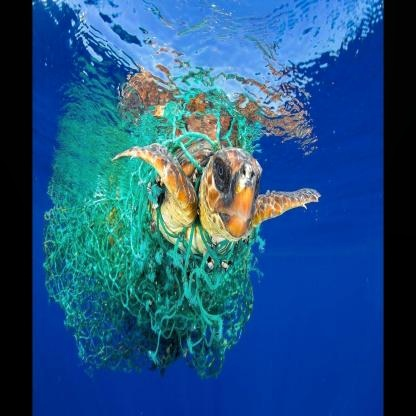net: (47, 104, 259, 368)
